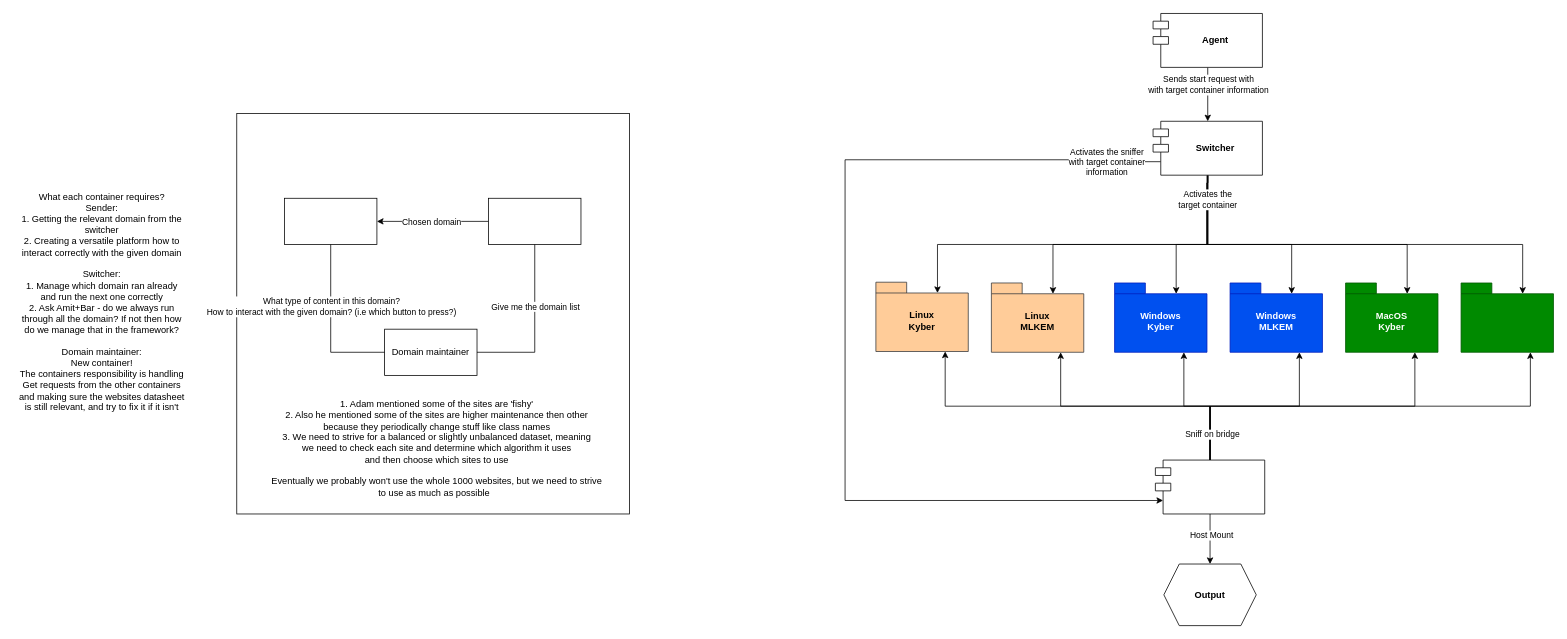
Image size: 1567x639. Some labels were removed from this diagram. The centre of each missing label's shape, as x and y in pixels:
General Sender: the point at 330,221
MacOS MLKEM: the point at 1506,317
Sniffer: the point at 1210,486
Switcher chooses the next domain: the point at 534,221
